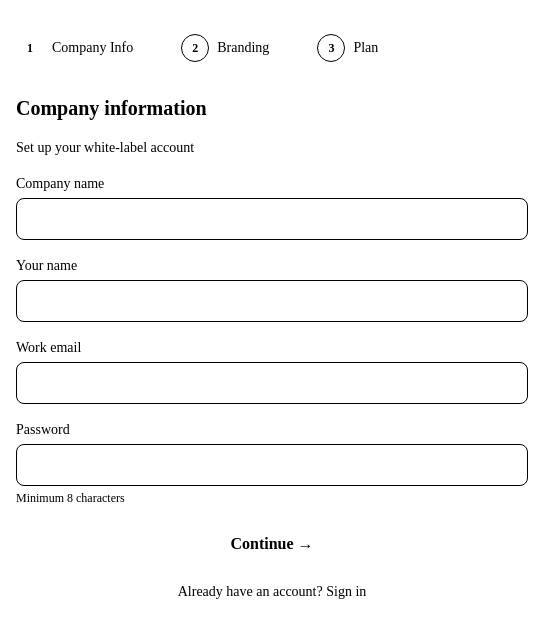
Test case: WLSignupPage › rejects short passwords
# Fill company name, admin name, email
Type "Acme Corp" into the field below "Company name" at (272, 219), box top-left (16, 198), bottom-right (528, 240)
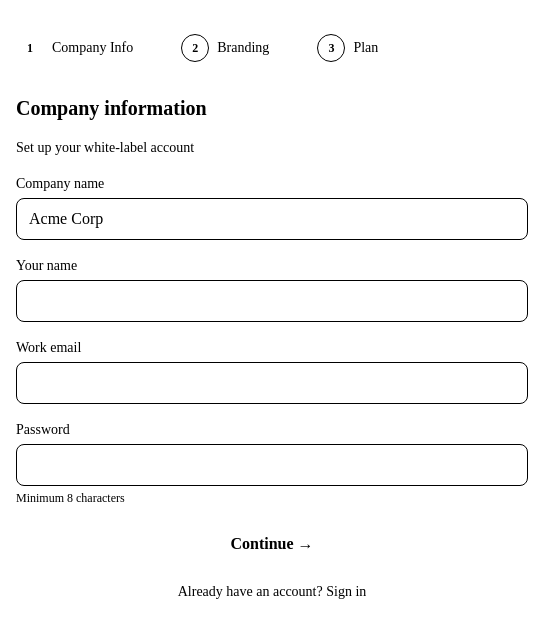
Type "Jane Smith" into the field below "Your name" at (272, 301), box top-left (16, 280), bottom-right (528, 322)
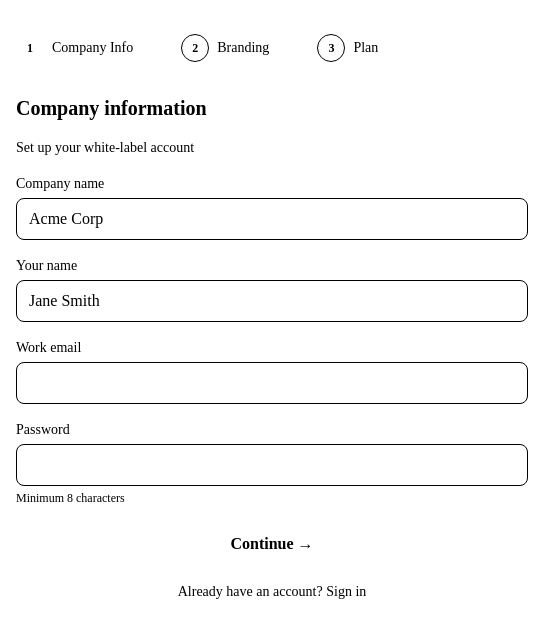
Type "jane@acme.com" into the field below "Work email" at (272, 383), box top-left (16, 362), bottom-right (528, 404)
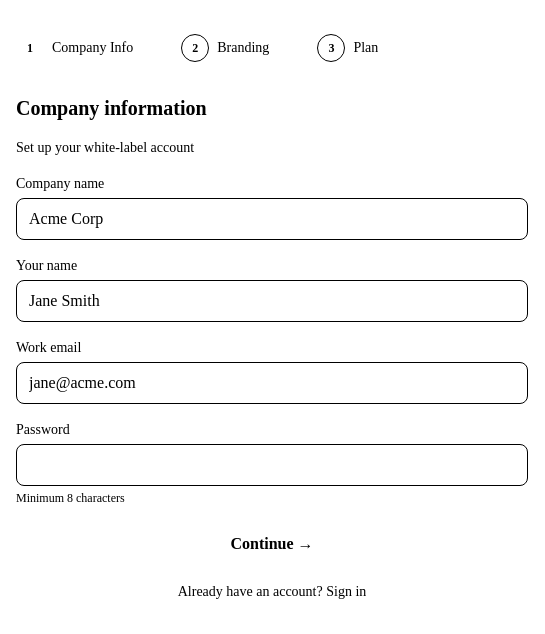
# Find password input
Type "short" into the password field at (272, 465), box top-left (16, 444), bottom-right (528, 486)
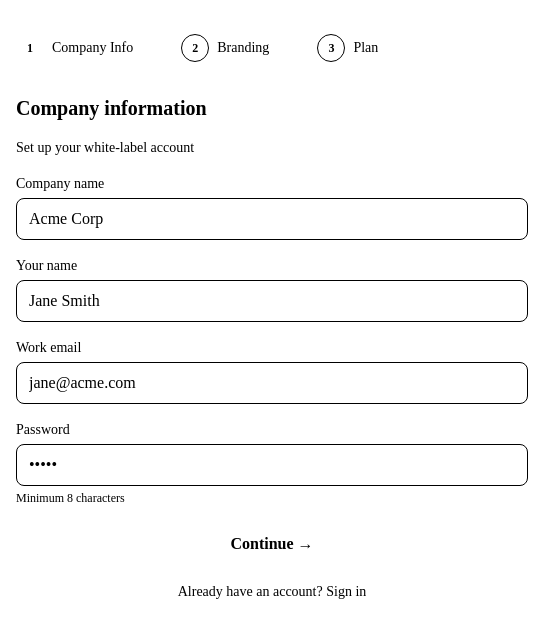
Click the button "Continue →" at (272, 544), box top-left (16, 522), bottom-right (528, 566)
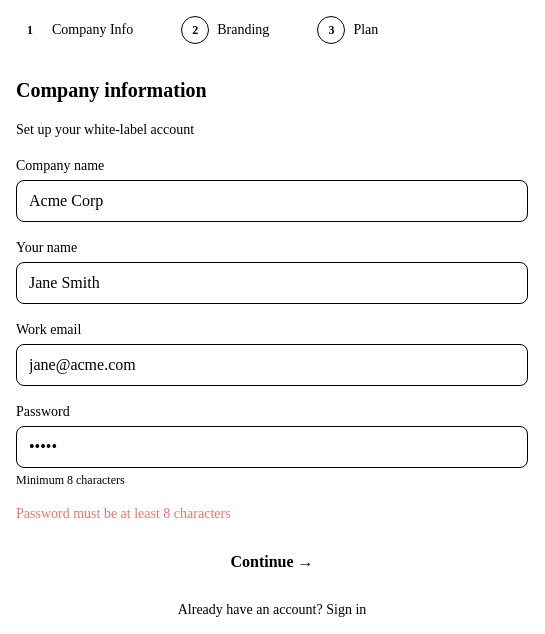
Now the text "Password must be at least 8 characters" is shown, box top-left (16, 506), bottom-right (231, 521)
